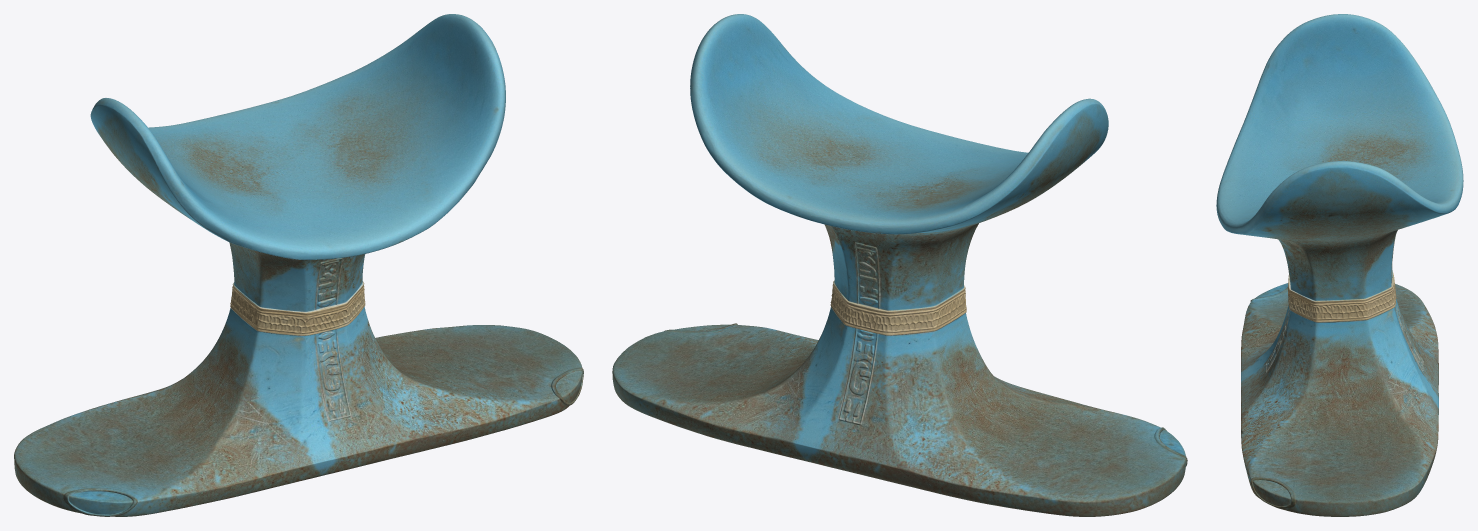
Rendered from 403a-turquoise-glass-headrest.glb.
The picture shows the model from 3 angles, left to right: view 1: azimuth 30°, elevation 25°; view 2: azimuth 150°, elevation 25°; view 3: azimuth 270°, elevation 25°; orthographic projection. The views are drawn at different scales.
Size of the model in its own units: 1.9 by 1.24 by 0.8745.
Materials: 1 (1 with a texture image).
